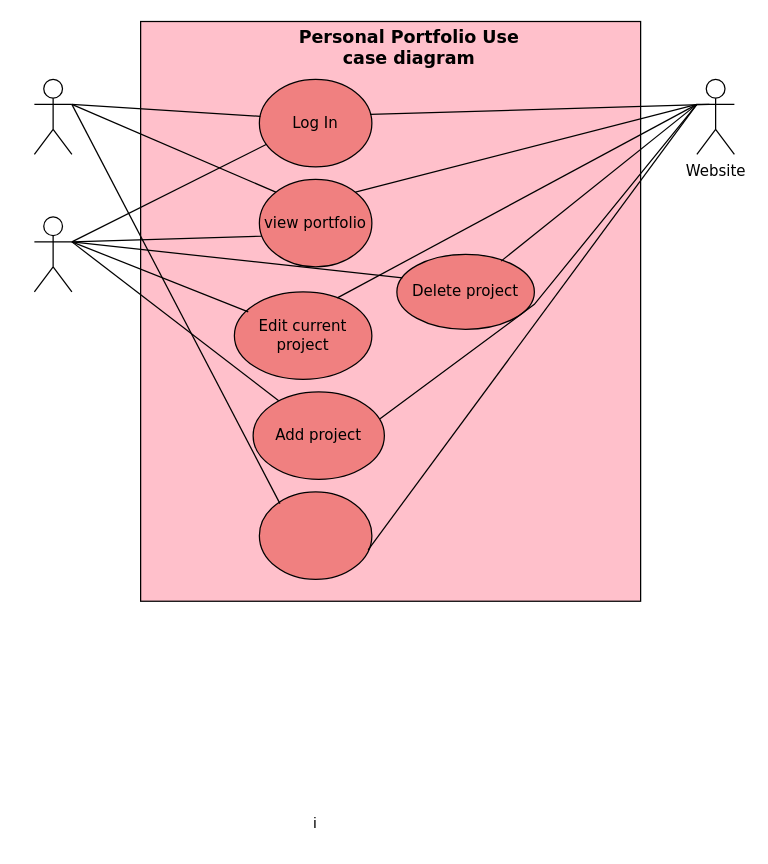
The diagram is 768 pixels wide and 864 high, and some of its shapes have lost their labels. The centre of each missing label's shape, as x and y in pixels:
"Admin 1" belongs at point (52, 254).
"Log Out" belongs at point (315, 535).
"User 0" belongs at point (52, 116).
